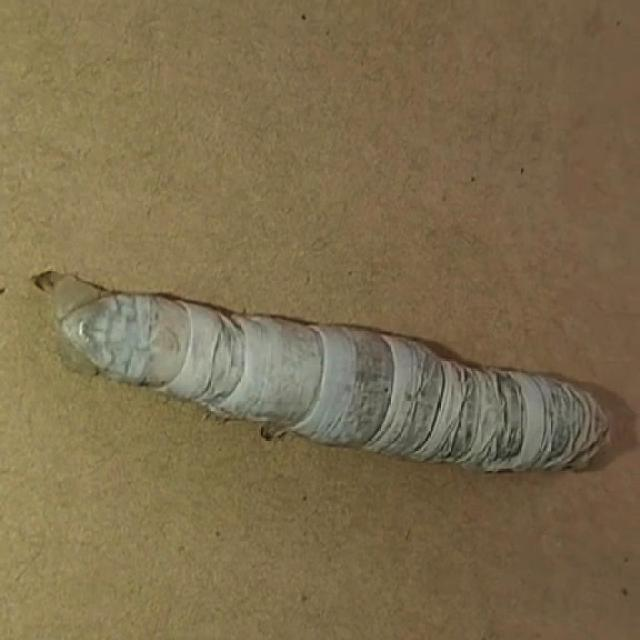Grasserie: (25, 250, 623, 525)
